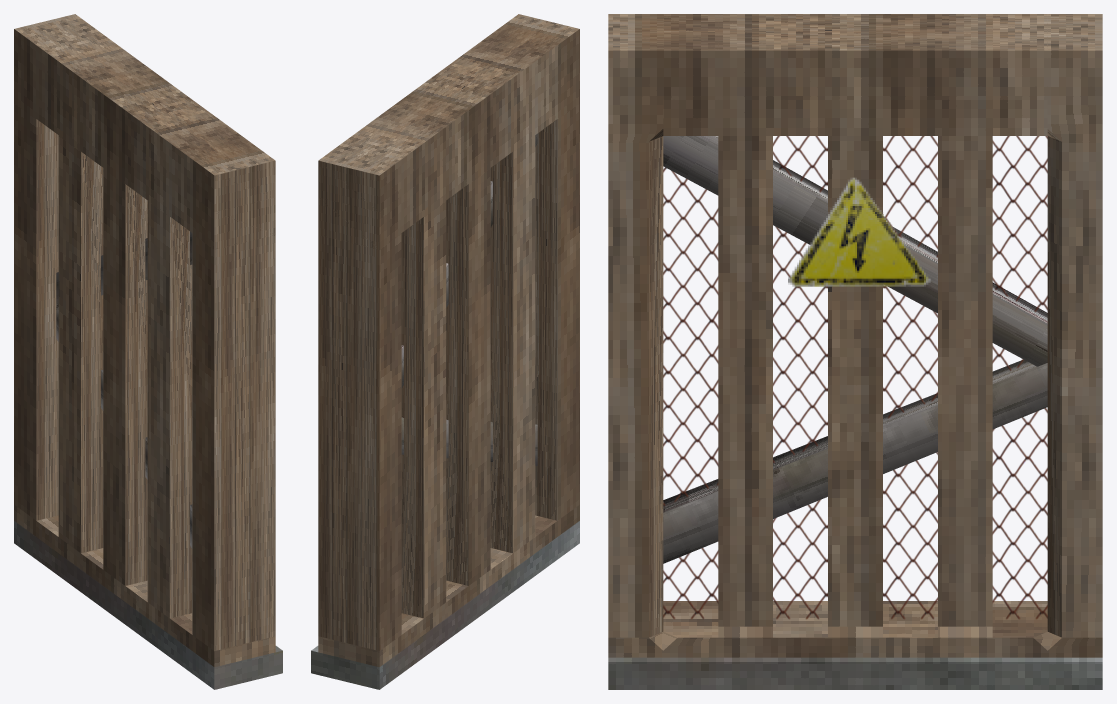
Rendered from ElevatorGate.glb.
The picture shows the model from 3 angles, left to right: view 1: azimuth 30°, elevation 25°; view 2: azimuth 150°, elevation 25°; view 3: azimuth 270°, elevation 25°; orthographic projection. The views are drawn at different scales.
Parts seen in each view (by area): view 1: Cube.101, Cube.103, Cube.102; view 2: Cube.101, Cube.103, Cube.102; view 3: Cube.101, Plane.018, Cube.103, Cube.102, sign_hazard_04.
Boxes of the visible parts, <box> form: Cube.101: <box>14,14,282,689</box>; Cube.103: <box>56,304,192,548</box>; Cube.102: <box>56,231,192,310</box>; Cube.101: <box>311,14,579,689</box>; Cube.103: <box>401,417,537,465</box>; Cube.102: <box>401,134,537,388</box>; Cube.101: <box>608,14,1102,689</box>; Plane.018: <box>663,136,1047,619</box>; Cube.103: <box>663,360,1047,563</box>; Cube.102: <box>663,136,1047,366</box>; sign_hazard_04: <box>788,177,930,286</box>.
Size of the model in its own units: 0.2311 by 1.66 by 1.17.
Materials: 5 (5 with a texture image).
